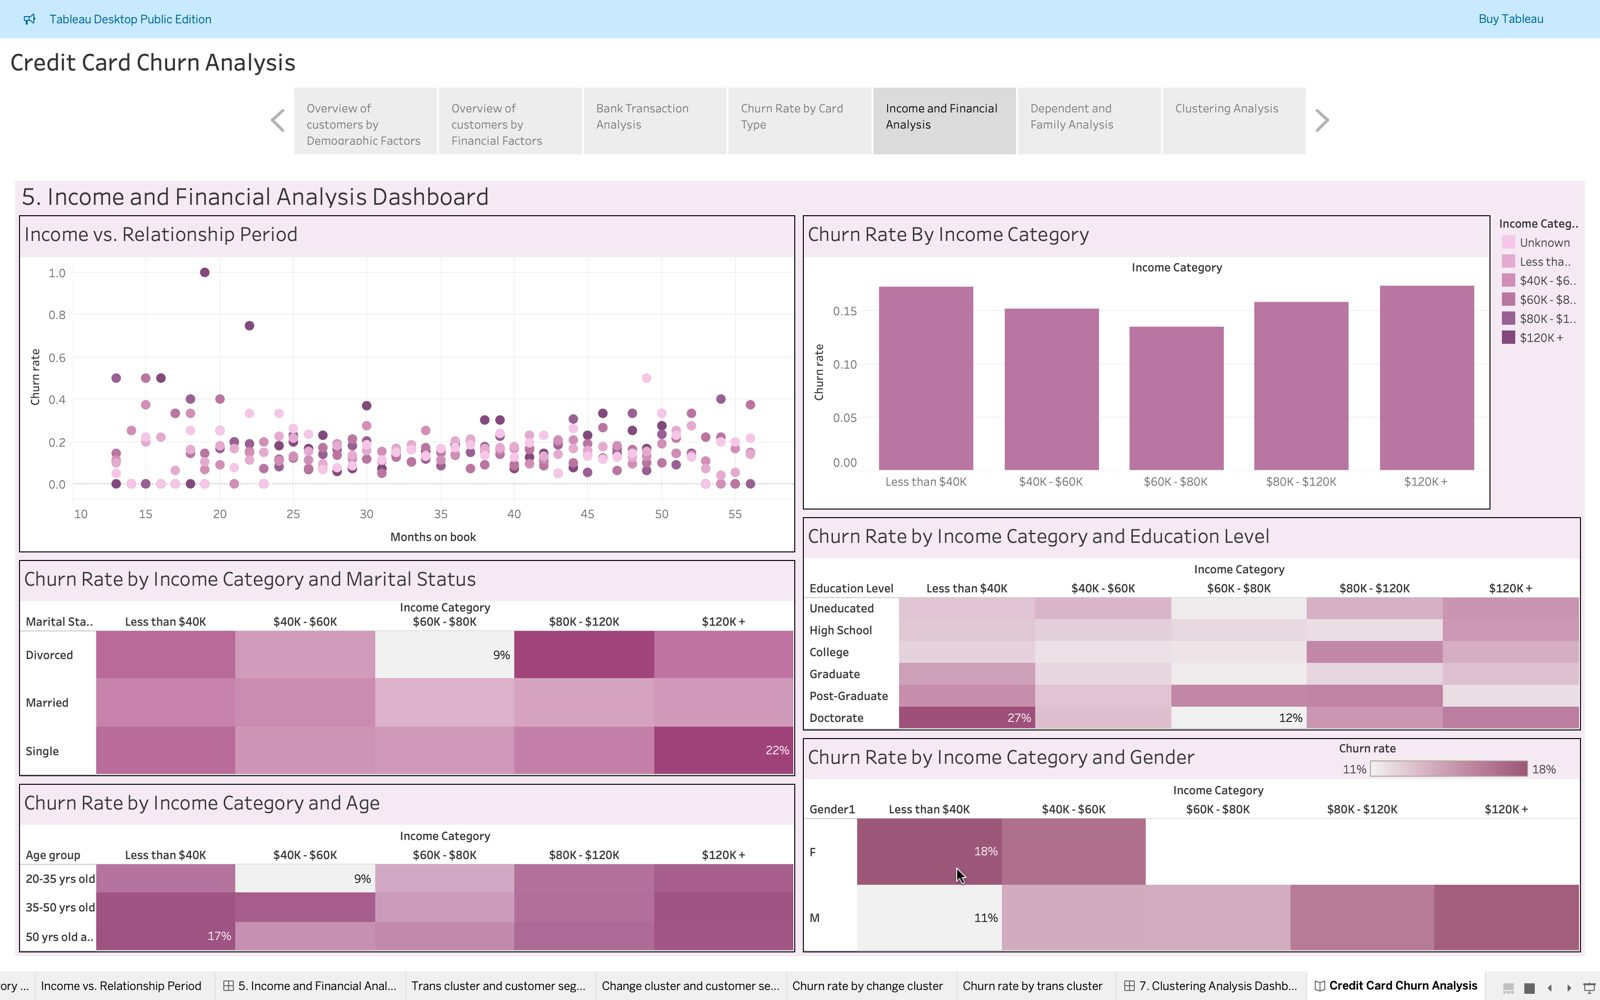

The dashboard page shown, as its layout file describes it:
{"tool":"tableau","page":{"name":"5. Income and Financial Analysis Dashboard","canvas":[1000,1000],"units":"permille","ordinal":4},"visuals":[{"type":"title","box":[5.5,8.7,989.1,34.9]},{"type":"worksheet","title":"Income vs. Relationship Period","mark":"Circle","rows":["Calculation_5717460502736887826"],"cols":["Months_on_book"],"box":[5.5,43.6,494.2,439]},{"type":"worksheet","title":"Churn Rate By Income Category","mark":"Automatic","rows":["Calculation_5717460502736887826"],"cols":["Income_Category"],"box":[499.7,43.6,416.6,384.5]},{"type":"legend","title":"Income vs. Relationship Period","param":"[federated.0rdieu80g1d7rm18i24471ab21uw].[none:Income_Category:nk]","box":[916.3,43.6,78.3,384.5]},{"type":"worksheet","title":"Churn Rate by Income Category and Education Level","mark":"Automatic","rows":["Education_Level"],"cols":["Income_Category"],"box":[499.7,428.1,494.9,281.3]},{"type":"worksheet","title":"Churn Rate by Income Category and Marital Status","mark":"Automatic","rows":["Marital_Status"],"cols":["Income_Category"],"box":[5.5,482.6,494.2,284.5]},{"type":"worksheet","title":"Churn Rate by Income Category and Gender","mark":"Automatic","rows":["Gender"],"cols":["Income_Category"],"box":[499.7,709.4,494.9,281.9]},{"type":"legend","title":"Churn Rate by Income Category and Gender","param":"[federated.0rdieu80g1d7rm18i24471ab21uw].[usr:Calculation_5717460502736887826:qk","box":[840,716.8,140.2,58.8]},{"type":"worksheet","title":"Churn Rate by Income Category and Age","mark":"Automatic","rows":["Calculation_5506706113539407872"],"cols":["Income_Category"],"box":[5.5,767.1,494.2,224.2]}]}

Visuals, with their boxes on the dashboard's canvas, which has no fixed pixel size, in thousandths of its width and height (x1, y1, x2, y2). These are canvas units, not pixel positions in the 1600x1000 screenshot, which may show the page scaled, cropped or inside an application window:
title: 6:9:995:44
"Income vs. Relationship Period" worksheet (Circle marks): 6:44:500:483
"Churn Rate By Income Category" worksheet: 500:44:916:428
"Income vs. Relationship Period" legend: 916:44:995:428
"Churn Rate by Income Category and Education Level" worksheet: 500:428:995:709
"Churn Rate by Income Category and Marital Status" worksheet: 6:483:500:767
"Churn Rate by Income Category and Gender" worksheet: 500:709:995:991
"Churn Rate by Income Category and Gender" legend: 840:717:980:776
"Churn Rate by Income Category and Age" worksheet: 6:767:500:991
